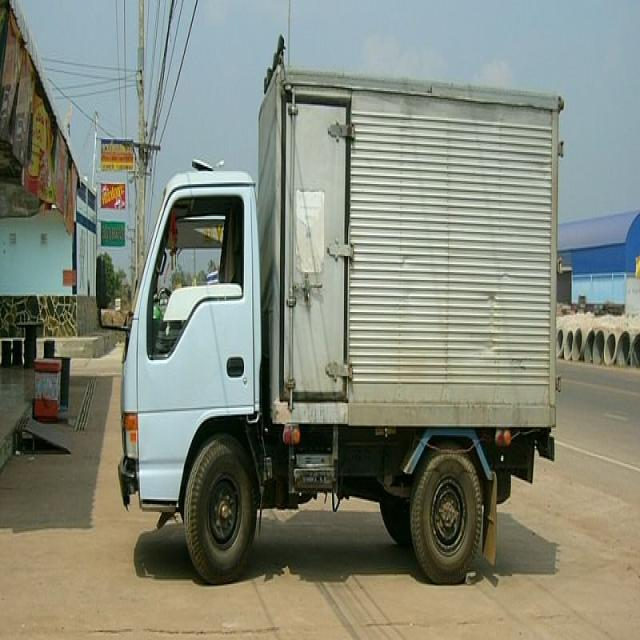truck: (119, 40, 562, 582)
